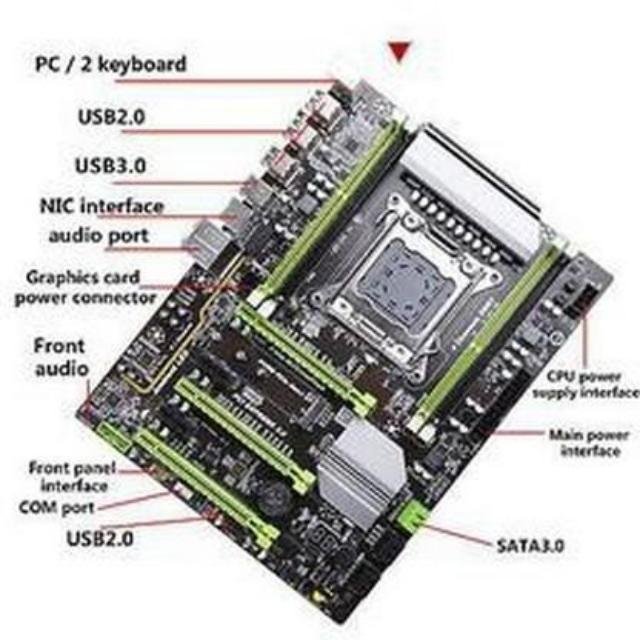Mainboard: (72, 81, 610, 633)
